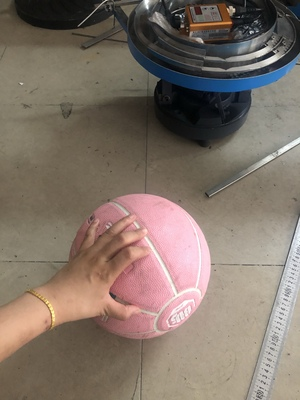ball: (68, 193, 212, 341), (127, 1, 300, 91)
